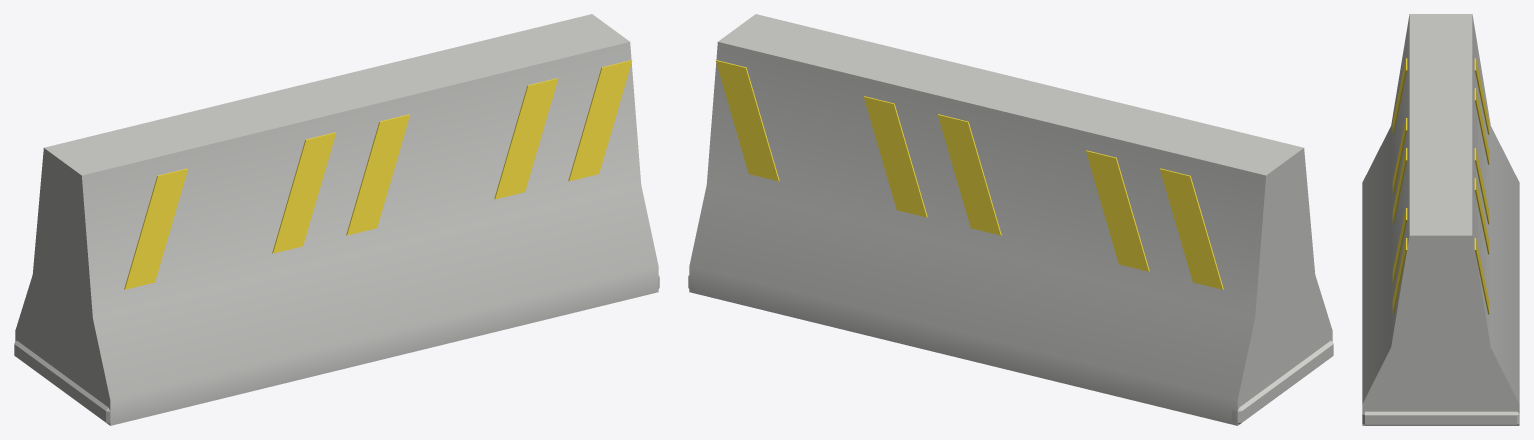
The model's file is Barrier_Jersey.fbx.
The picture shows the model from 3 angles, left to right: view 1: azimuth 30°, elevation 25°; view 2: azimuth 150°, elevation 25°; view 3: azimuth 270°, elevation 25°; orthographic projection. The views are drawn at different scales.
Visible parts, largest first — view 1: Barrier_Jersey; view 2: Barrier_Jersey; view 3: Barrier_Jersey.
Boxes of the visible parts, x1,y1,x2,y2 form: Barrier_Jersey: (14,14,659,425); Barrier_Jersey: (688,14,1333,425); Barrier_Jersey: (1362,14,1519,425).
Size of the model in its own units: 2.02 by 0.8 by 0.6.
